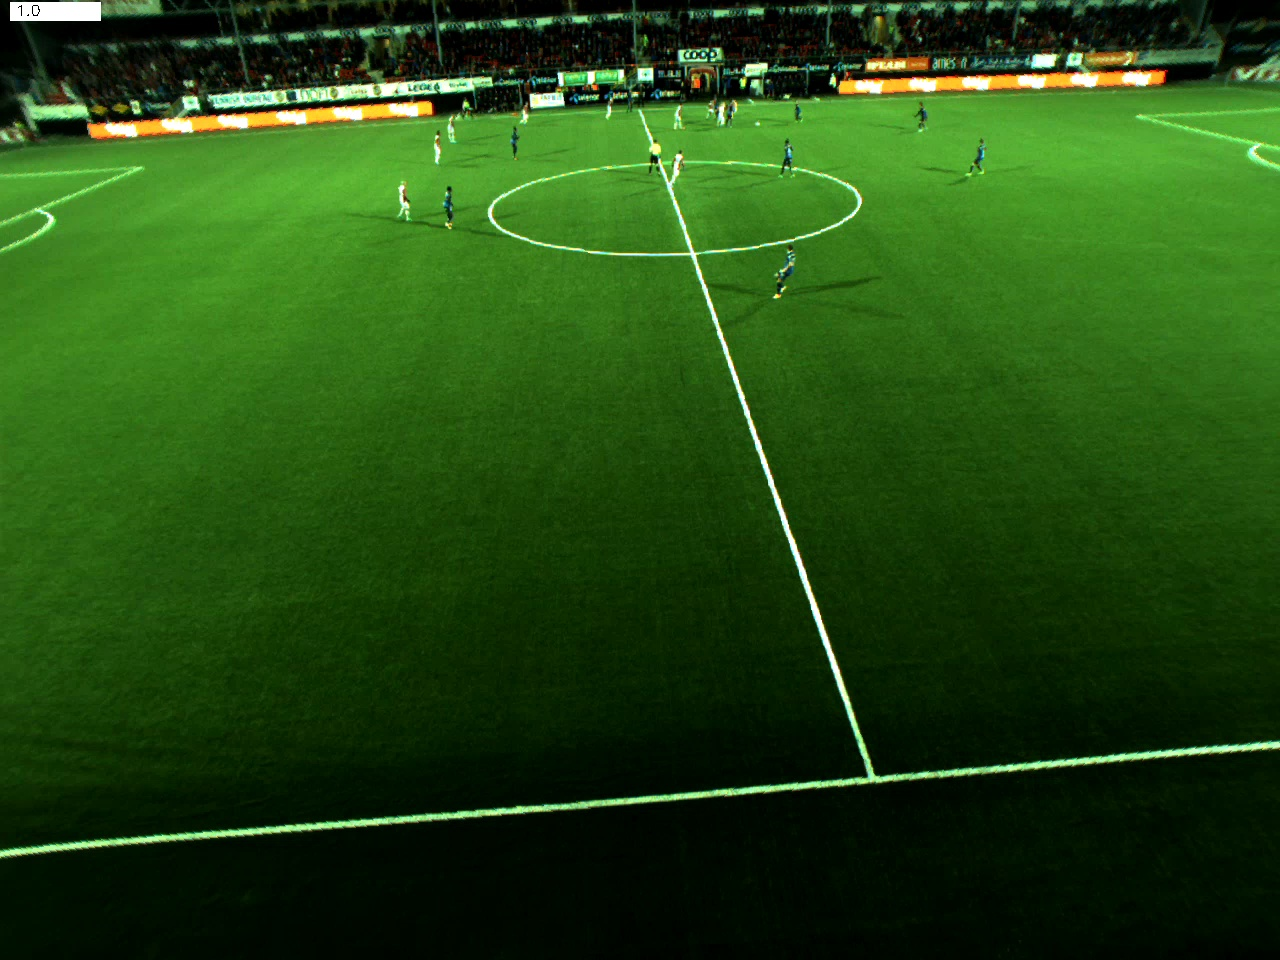blue: (767, 237, 806, 301), (961, 135, 993, 184), (767, 137, 800, 184), (906, 97, 937, 135), (435, 185, 460, 232), (507, 125, 523, 163), (790, 101, 806, 126)
red: (384, 178, 419, 226), (667, 146, 688, 189), (428, 127, 445, 167), (446, 112, 461, 144), (599, 96, 614, 121), (674, 103, 684, 130)
yellow: (645, 137, 664, 179)
